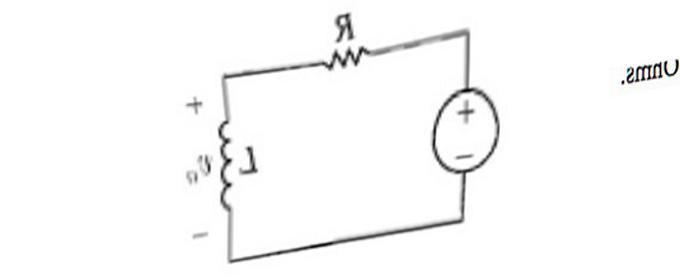Battery: (410, 69, 520, 189)
